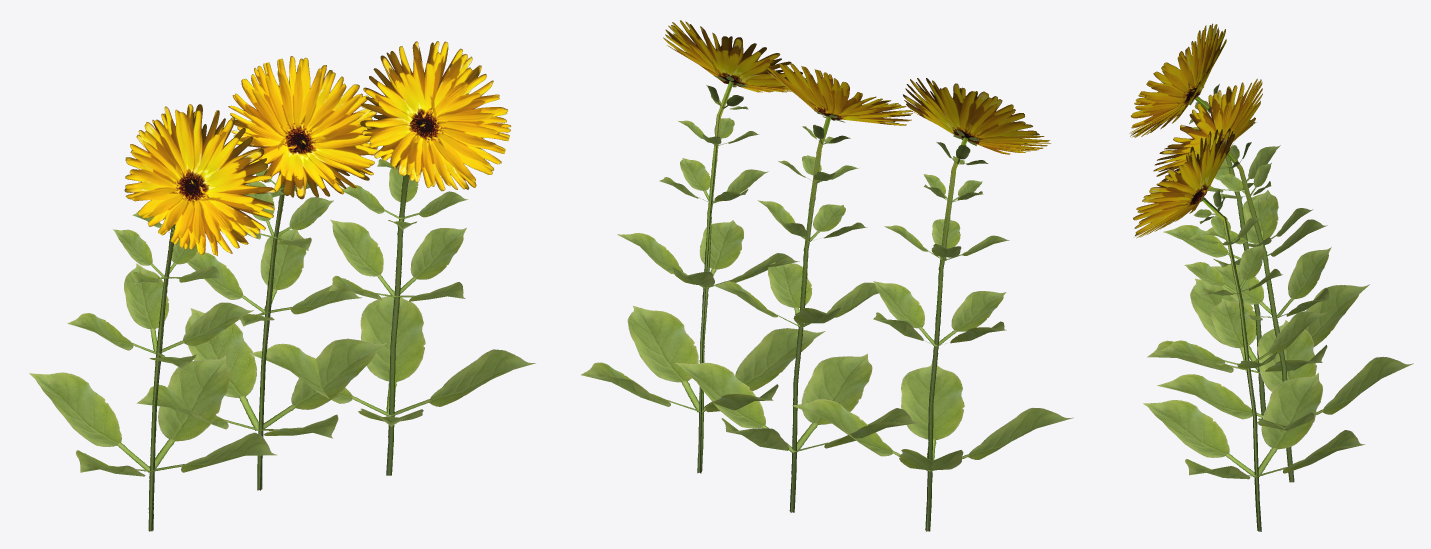
The model's file is SunflowerGroup1_1.fbx.
The picture shows the model from 3 angles, left to right: view 1: azimuth 30°, elevation 25°; view 2: azimuth 150°, elevation 25°; view 3: azimuth 270°, elevation 25°; orthographic projection. The views are drawn at different scales.
Parts seen in each view (by area): view 1: SunflowerGroup1_1; view 2: SunflowerGroup1_1; view 3: SunflowerGroup1_1.
Boxes of the visible parts, x1=… form: SunflowerGroup1_1: x1=29, y1=41, x2=535, y2=531; SunflowerGroup1_1: x1=581, y1=20, x2=1073, y2=531; SunflowerGroup1_1: x1=1129, y1=23, x2=1413, y2=531.
Size of the model in its own units: 0.8571 by 0.8011 by 0.5395.
